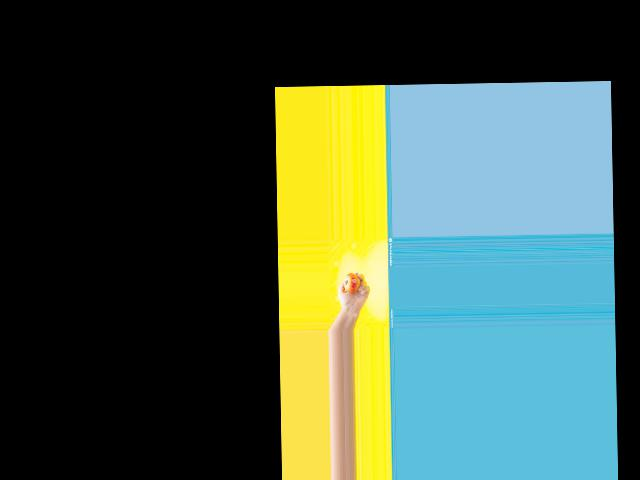tomato: (344, 273, 360, 292)
